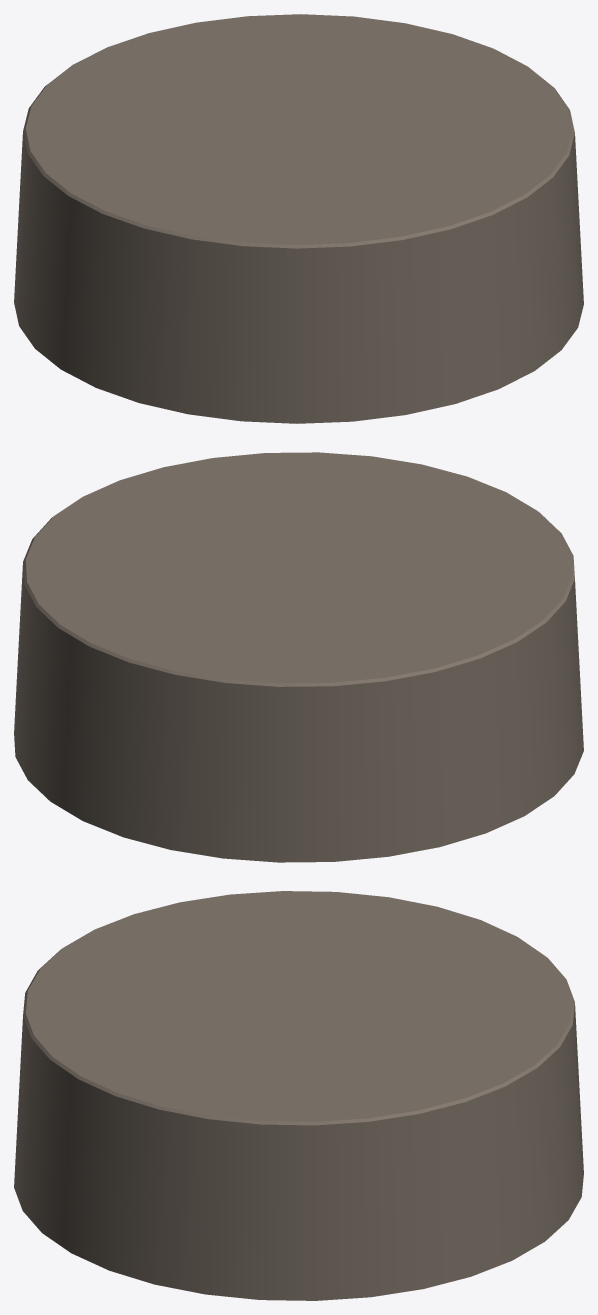
Rendered from bottom_small_01.fbx.
The picture shows the model from 3 angles, top to bottom: view 1: azimuth 30°, elevation 25°; view 2: azimuth 150°, elevation 25°; view 3: azimuth 270°, elevation 25°; orthographic projection.
Visible parts, largest first — view 1: bottom_small; view 2: bottom_small; view 3: bottom_small.
Part boxes in pixels (<box>): bottom_small: <box>14,14,583,423</box>; bottom_small: <box>14,452,583,862</box>; bottom_small: <box>14,891,583,1300</box>.
Bounding box in the file's own units: 73.23 × 24.67 × 73.23.
